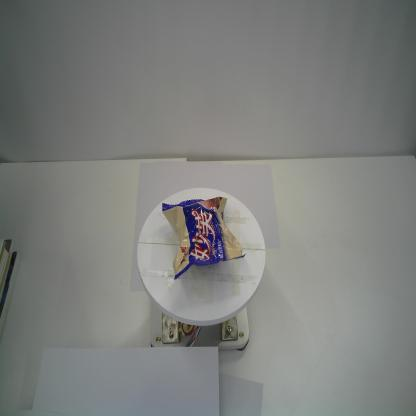Dessert: (162, 196, 247, 281)
